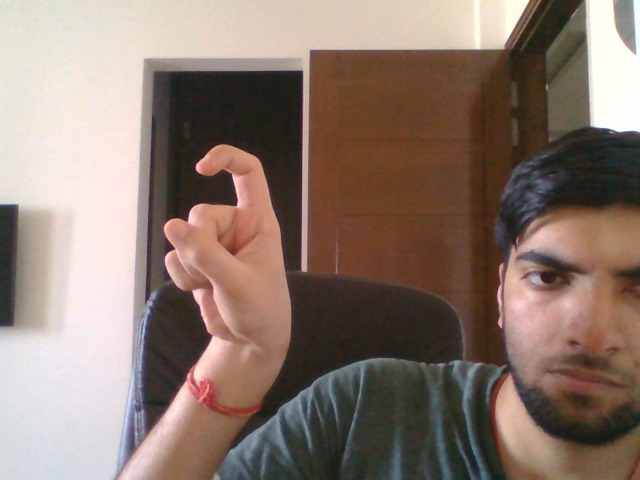LetterZ: (162, 138, 295, 353)
